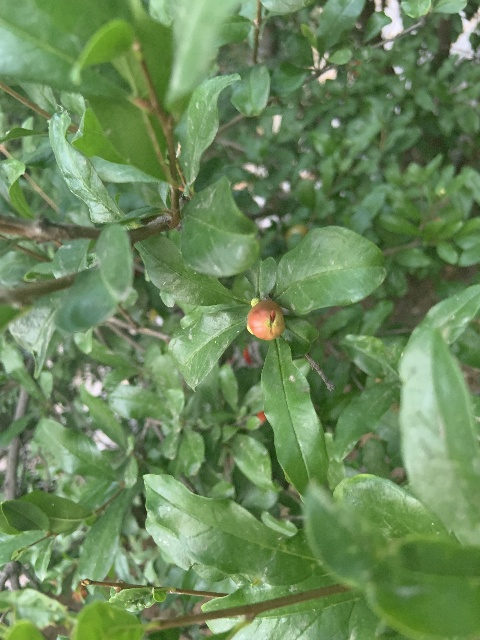bud: (247, 300, 284, 340)
